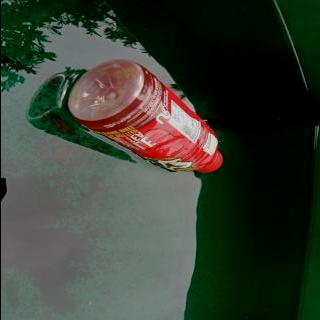bottle: (65, 56, 226, 176)
